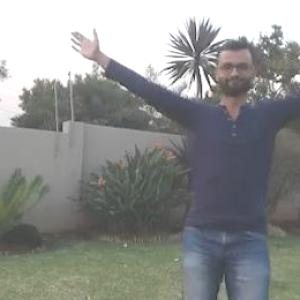takeoff: (83, 30, 299, 299)
